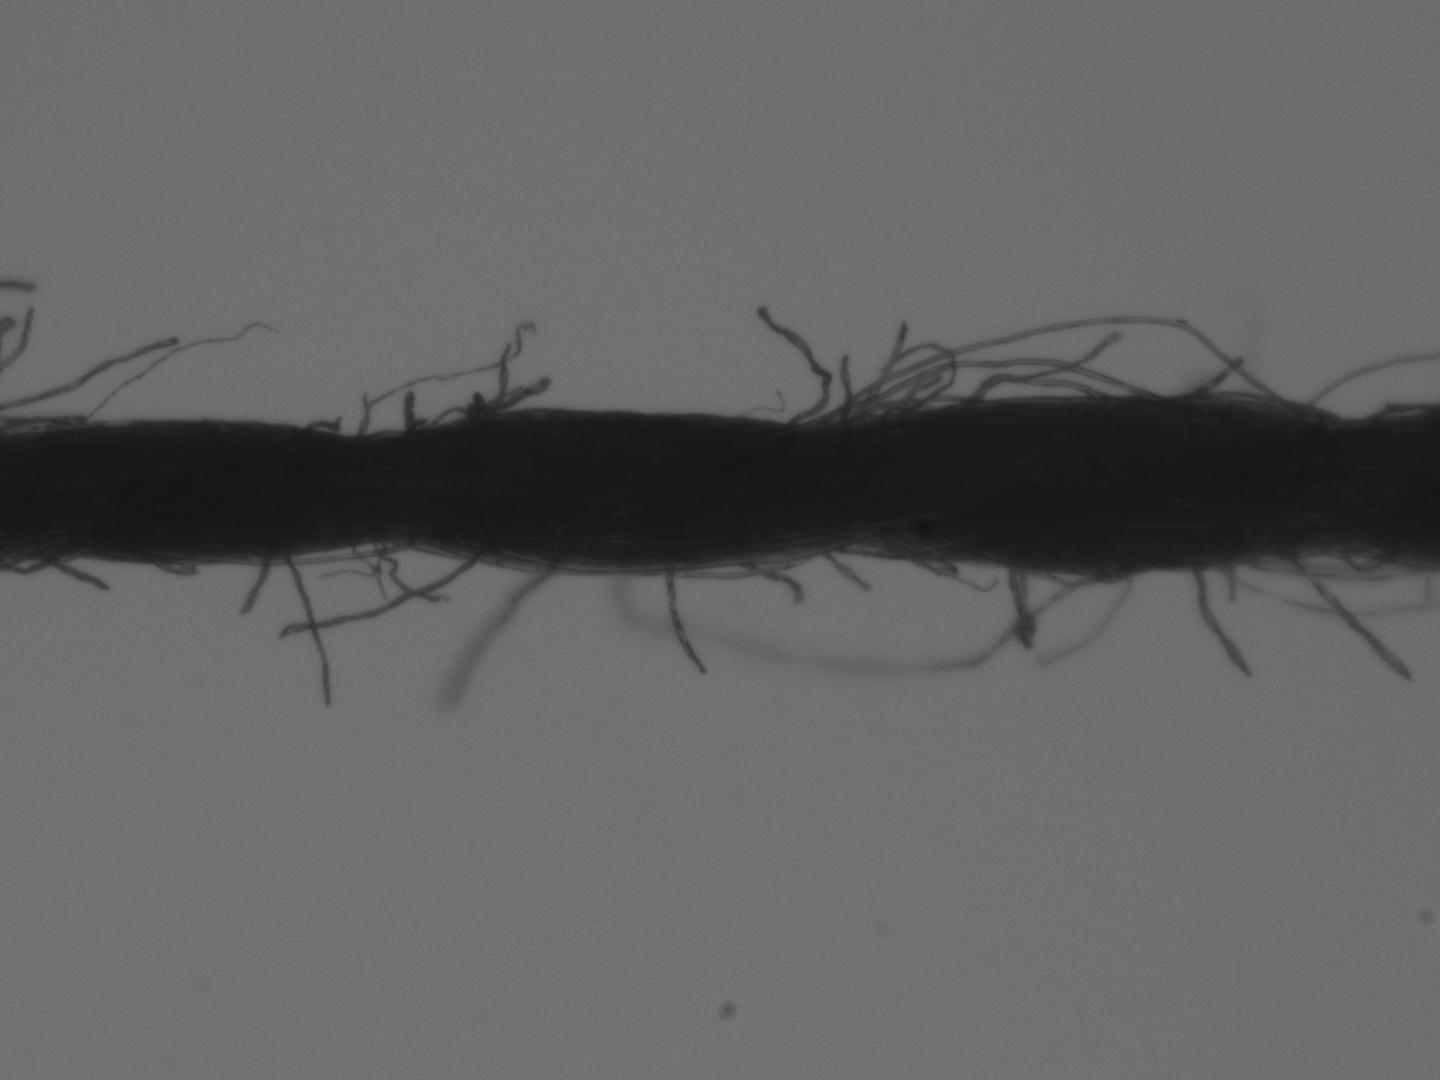loop_fiber: (823, 311, 1273, 429), (346, 326, 562, 452), (793, 334, 963, 437), (227, 540, 421, 568), (658, 551, 815, 582), (969, 368, 1102, 402), (1335, 545, 1395, 575), (3, 551, 73, 574), (1024, 567, 1107, 585)
protruding_fiber: (659, 556, 715, 685)
